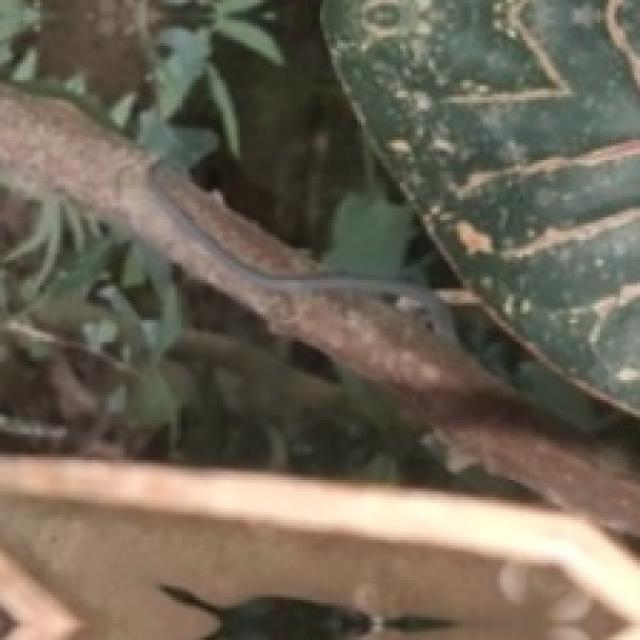red-tailed green ratsnake: (152, 164, 454, 341)
